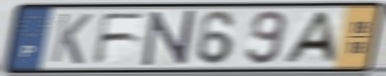6: (194, 9, 239, 68)
9: (244, 9, 288, 66)
A: (279, 10, 340, 65)
F: (90, 11, 149, 67)
K: (48, 11, 95, 67)
N: (140, 8, 197, 69)
